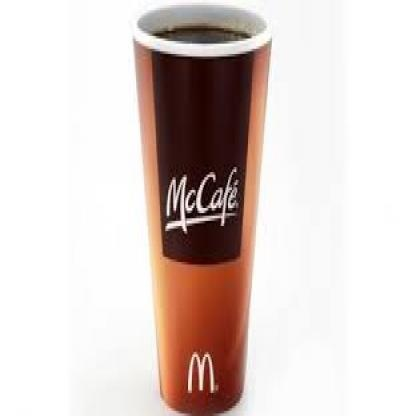trash: (134, 4, 270, 415)
